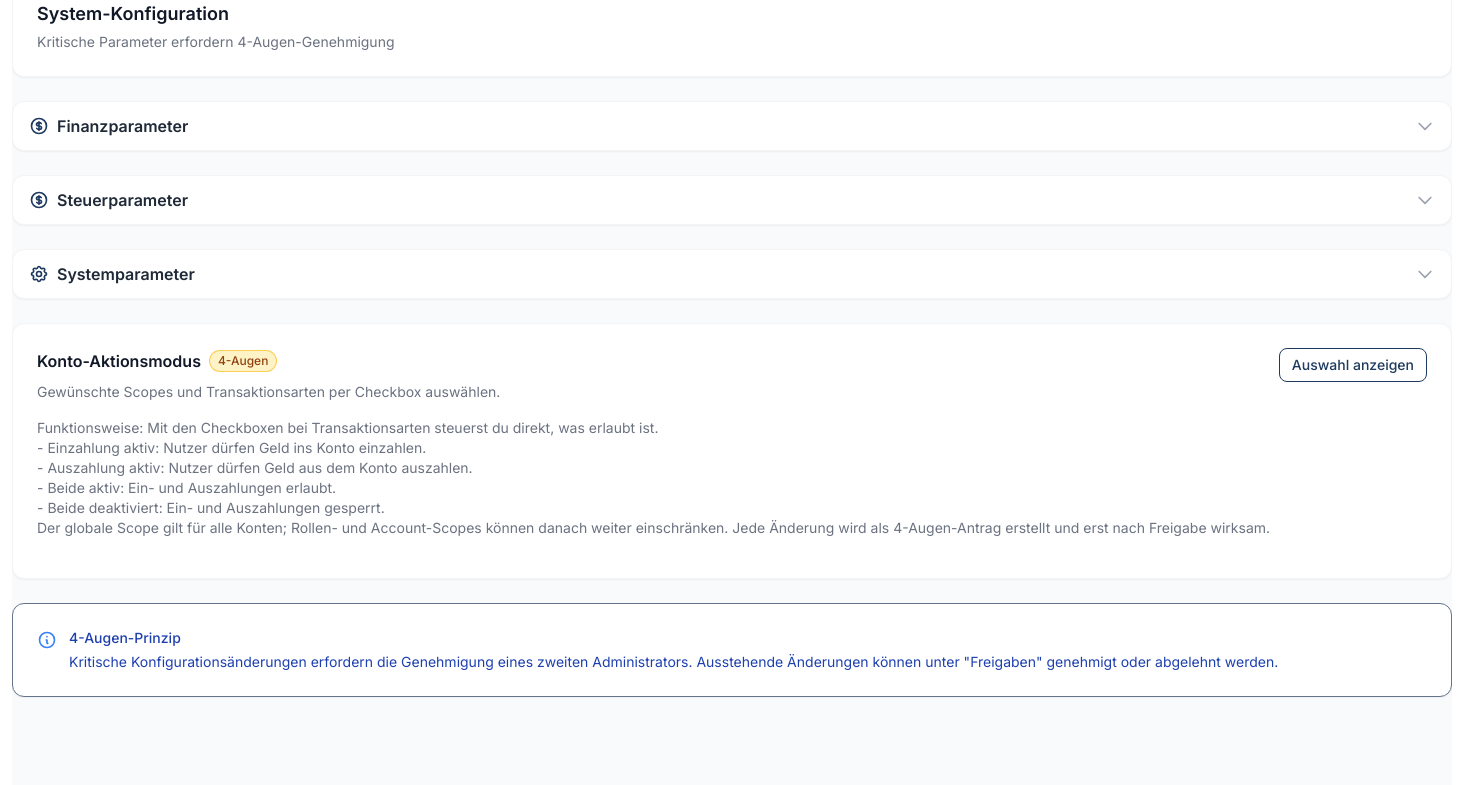
Test: ConfigurationPage (Steuerparameter integration) › expands tax details when user selects platform withholds while editing tax mode
The width and height of the screenshot is (1464, 785).
Click the button "Steuerparameter": x=123, y=200 [13, 176, 1451, 224]
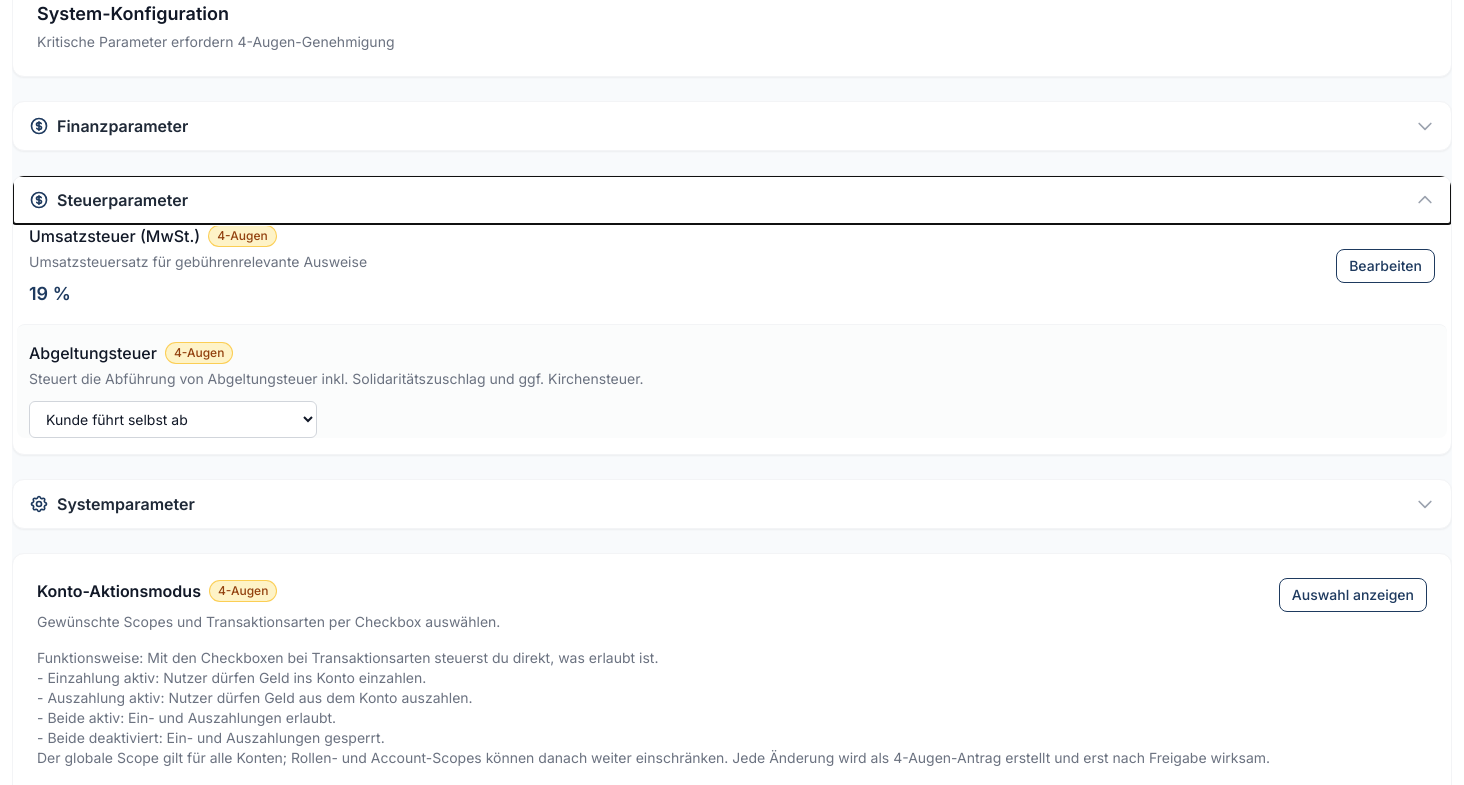
Now the dropdown shows "Kunde führt selbst ab"
Select "{{APP_NAME}} führt automatisch ab" in the dropdown: x=173, y=420 [29, 401, 317, 438]
(page scrolled)
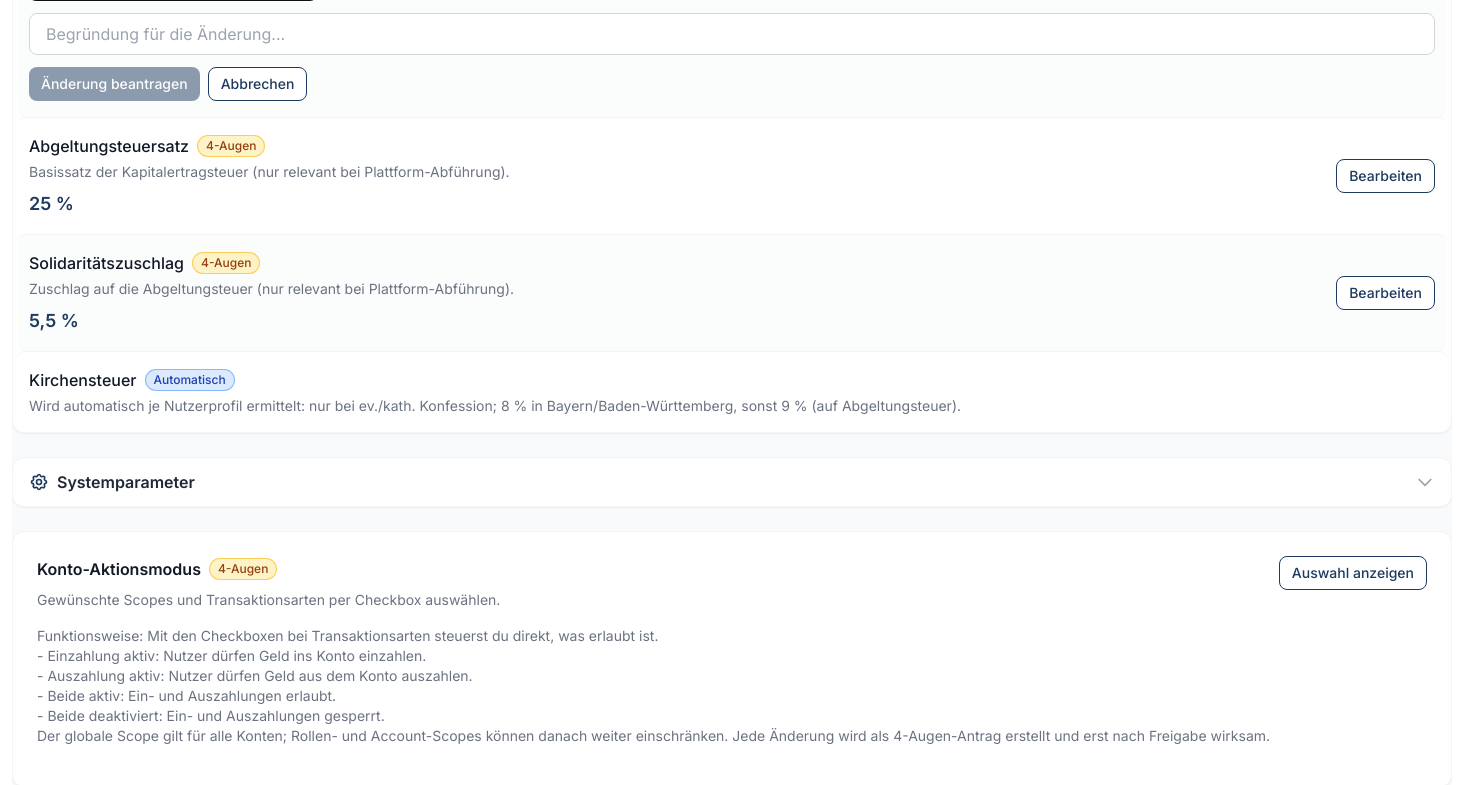
Now the text "Abgeltungsteuersatz" is shown, box [29, 134, 189, 158]
Now the text "Solidaritätszuschlag" is shown, box [29, 251, 184, 275]
Now the text "Kirchensteuer" is shown, box [29, 368, 136, 392]
